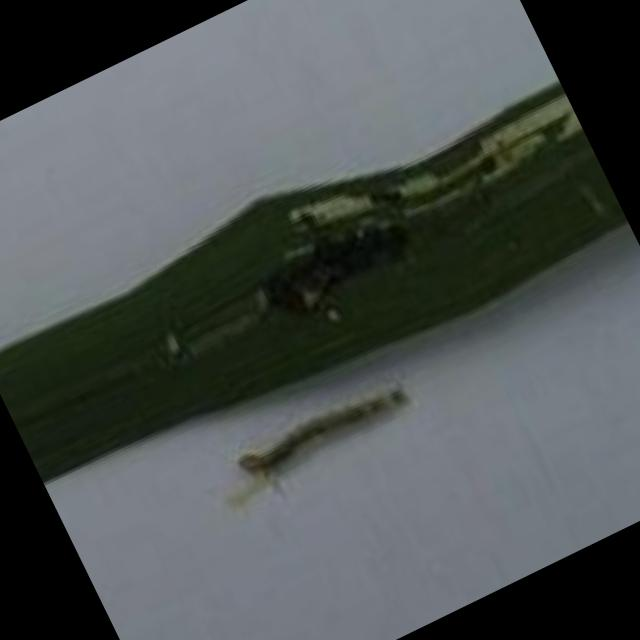leaf-folder: (195, 330, 455, 544)
